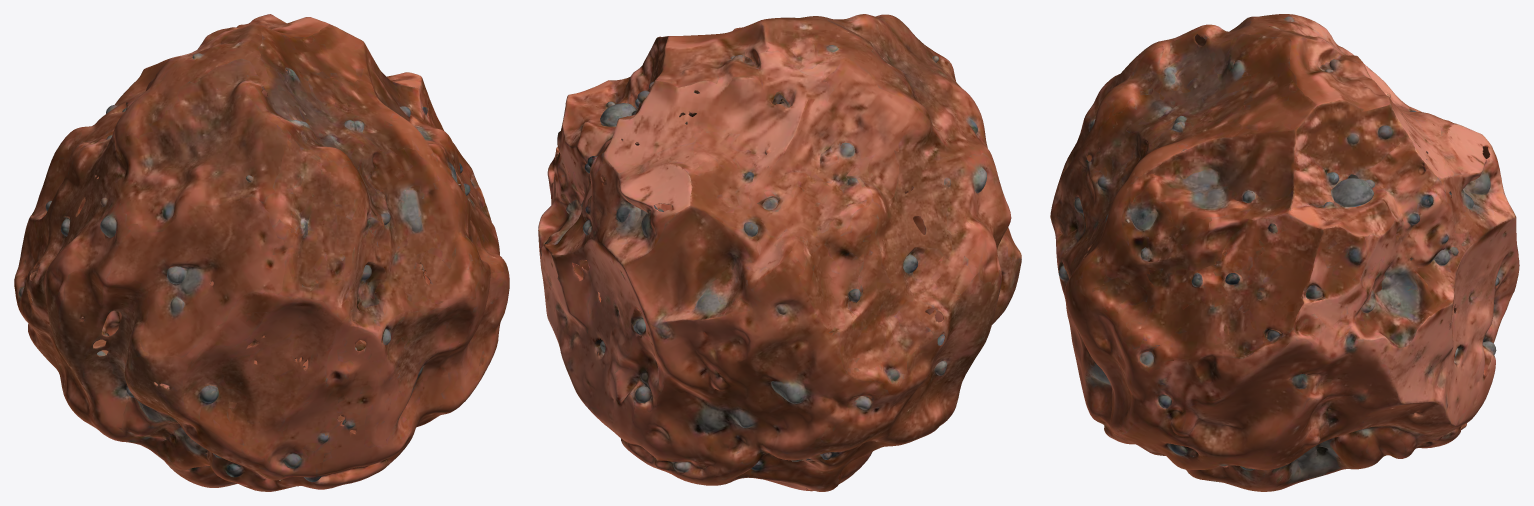
File: copper.glb
3 views of the same model, side by side, from view 1: azimuth 30°, elevation 25°; view 2: azimuth 150°, elevation 25°; view 3: azimuth 270°, elevation 25° (orthographic). The views are drawn at different scales.
Parts seen in each view (by area): view 1: world; view 2: world; view 3: world.
Boxes of the visible parts, <box> form: world: <box>14,14,509,491</box>; world: <box>538,14,1021,491</box>; world: <box>1050,14,1519,491</box>.
Bounding box in the file's own units: 1 × 1 × 0.9504.
1 material, 1 textured.
